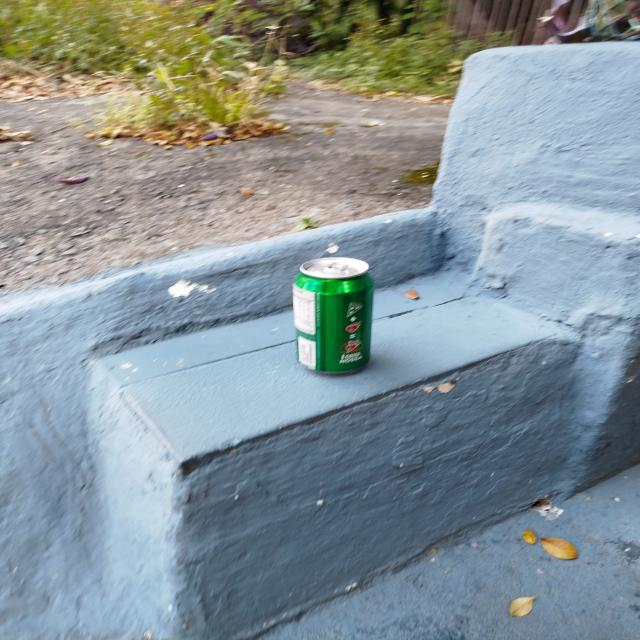Guarana: (292, 258, 376, 374)
